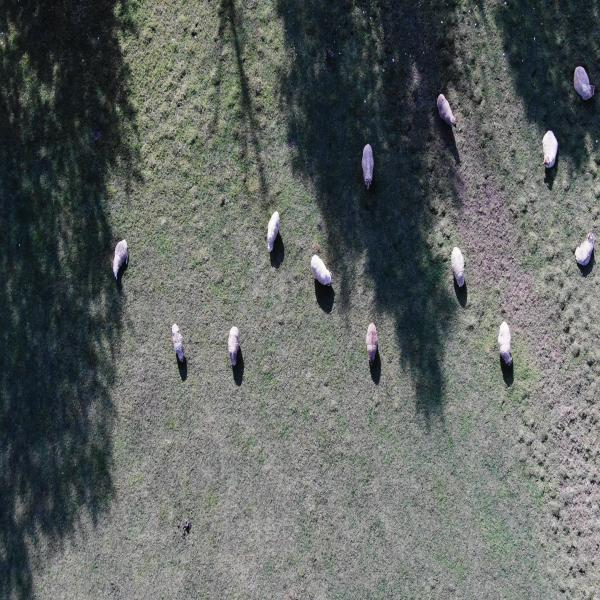sheep: (161, 311, 191, 365), (448, 237, 473, 299), (110, 233, 140, 283), (495, 312, 517, 372), (305, 248, 334, 293), (536, 128, 559, 177), (223, 315, 242, 369), (265, 202, 283, 255), (433, 85, 456, 124), (570, 228, 593, 267), (360, 136, 376, 192), (571, 56, 592, 98), (364, 317, 384, 357)
